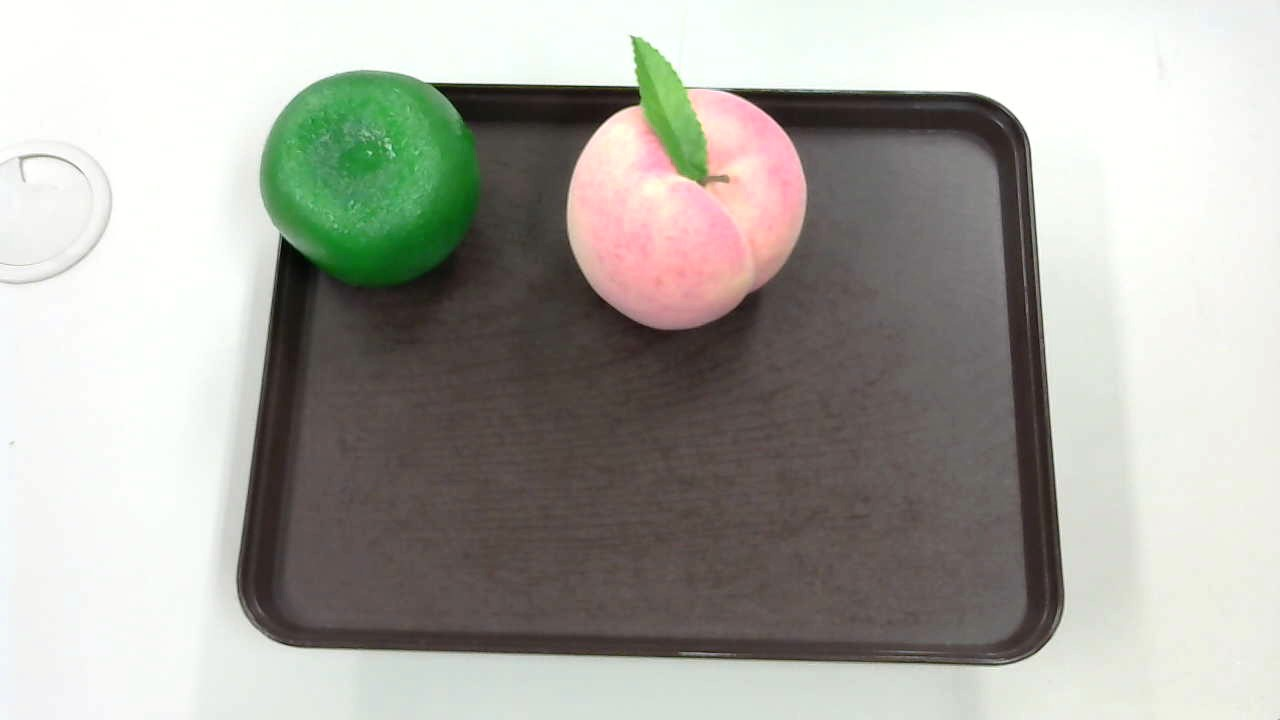green orange: (254, 67, 480, 288)
peach: (565, 30, 810, 330)
